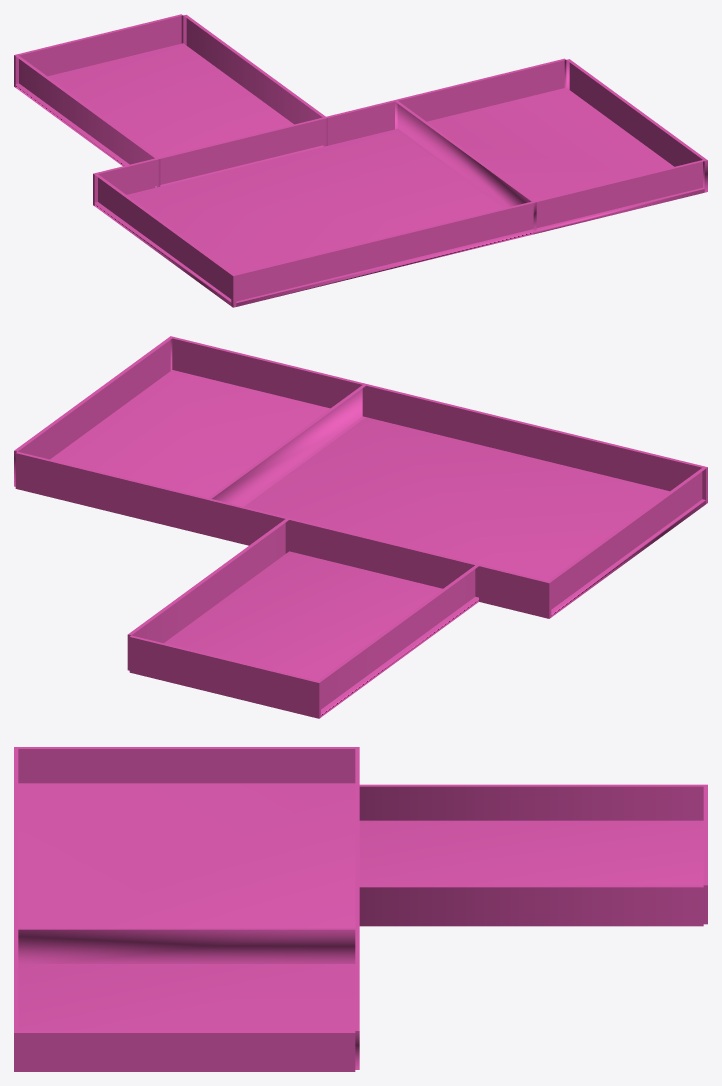
The model's file is separateFloors1425.glb.
3 renders of one model, top to bottom at view 1: azimuth 30°, elevation 25°; view 2: azimuth 150°, elevation 25°; view 3: azimuth 270°, elevation 25°, orthographic. The views are drawn at different scales.
Visible parts, largest first — view 1: playerRoom, playerRoom.001, playerRoom.002; view 2: playerRoom, playerRoom.001, playerRoom.002; view 3: playerRoom, playerRoom.001, playerRoom.002.
Boxes of the visible parts, x1,y1,x2,y2 form: playerRoom: (14, 14, 707, 307); playerRoom.001: (94, 129, 533, 306); playerRoom.002: (15, 43, 323, 187); playerRoom: (14, 336, 707, 718); playerRoom.001: (244, 417, 705, 617); playerRoom.002: (164, 551, 478, 717); playerRoom: (14, 747, 707, 1071); playerRoom.001: (18, 783, 355, 927); playerRoom.002: (359, 820, 703, 885).
Bounding box in the file's own units: 72.14 × 4.59 × 74.05.
